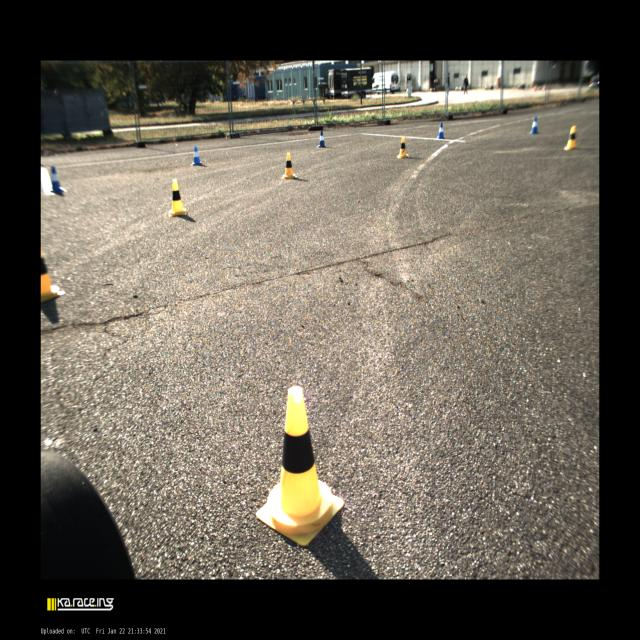blue_cone: (50, 164, 65, 192), (191, 144, 202, 166), (529, 116, 539, 134), (317, 130, 327, 148), (437, 122, 445, 139)
yellow_cone: (257, 386, 344, 546), (41, 247, 63, 302), (168, 180, 187, 218), (282, 153, 296, 179), (564, 126, 577, 150), (397, 136, 409, 158)
